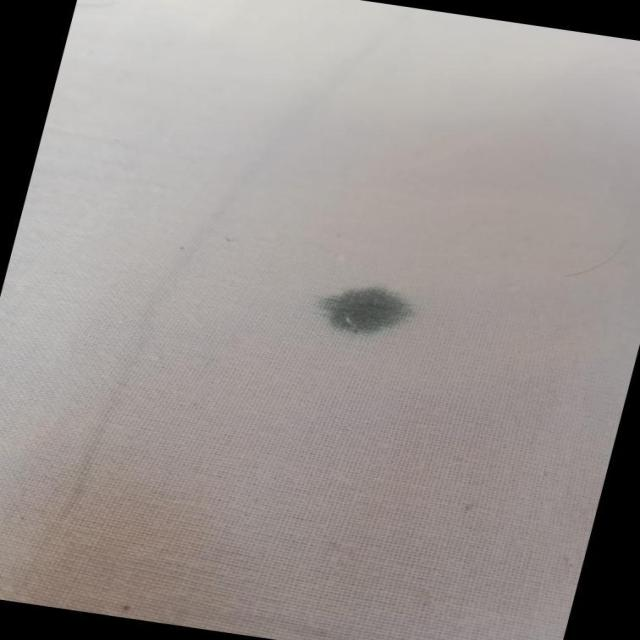stain: (307, 274, 418, 346)
